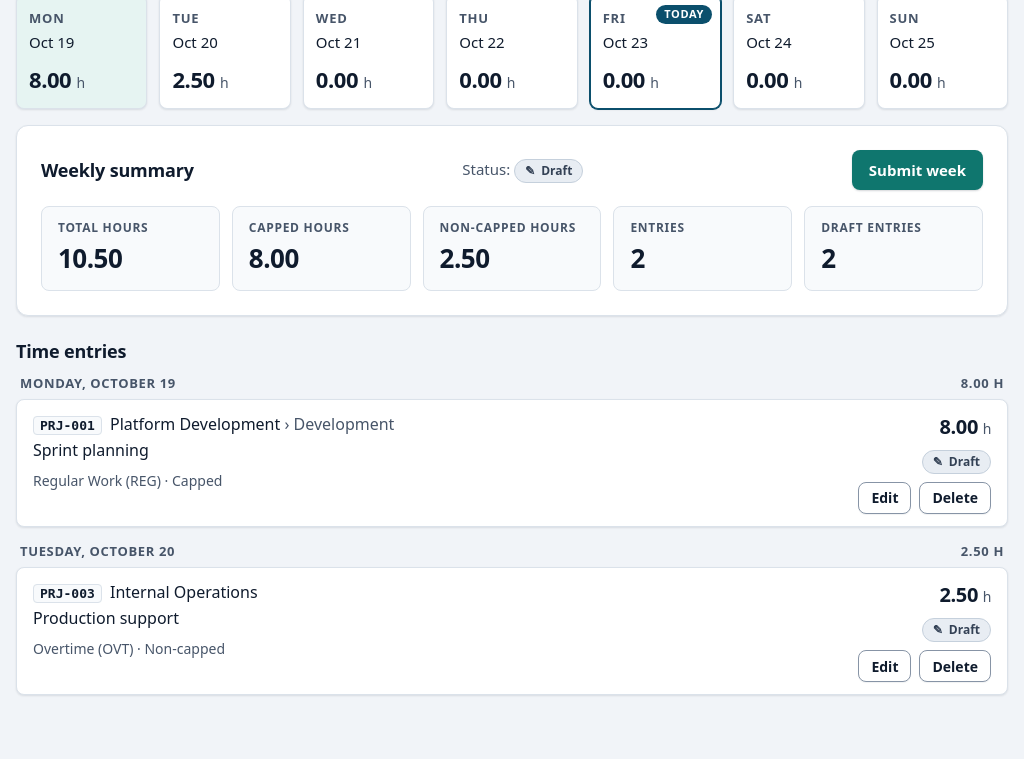
Test: Delete time entry › requires confirmation, then removes the entry and updates totals
(page scrolled)
Expected: the text with test id "total-hours" reads "10.50", [58,240,122,276]
Click the button with aria-label "Delete entry: PRJ-003 on Tuesday, October 20": (955, 666) [920,650,991,682]
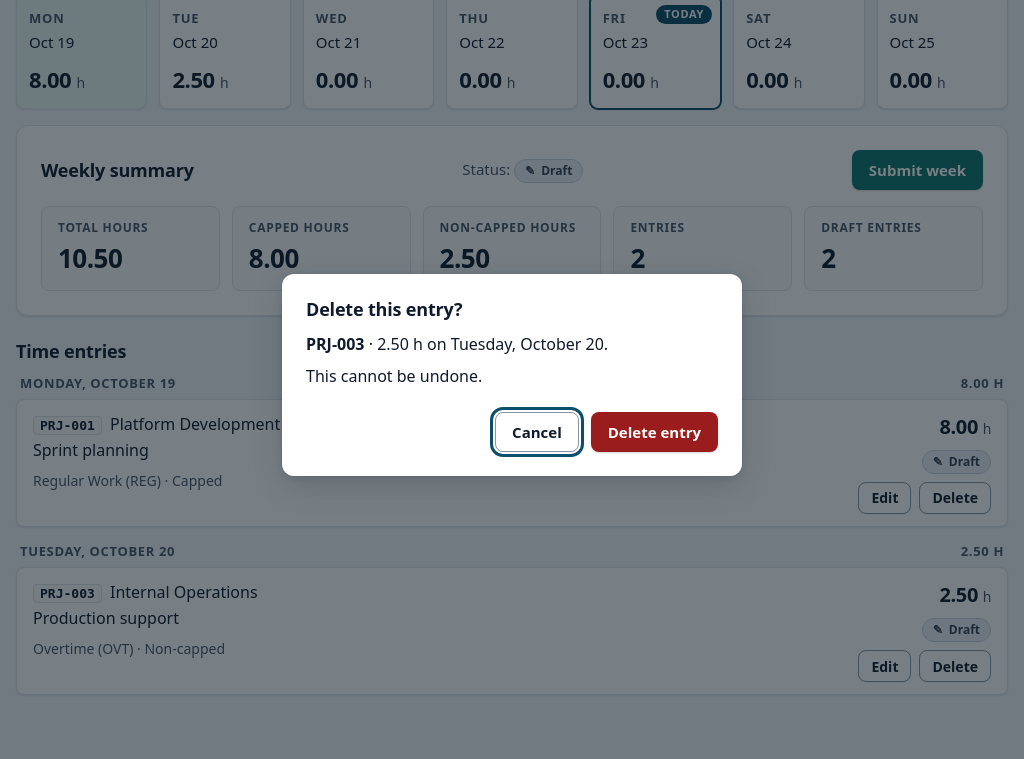
Now the dialog "Delete this entry?" shows "PRJ-003", box [306,333,364,355]
Now the dialog "Delete this entry?" shows "2.50 h", box [282,274,742,476]
Click the button "Delete entry": (654, 432) [591,412,718,452]
(page scrolled)
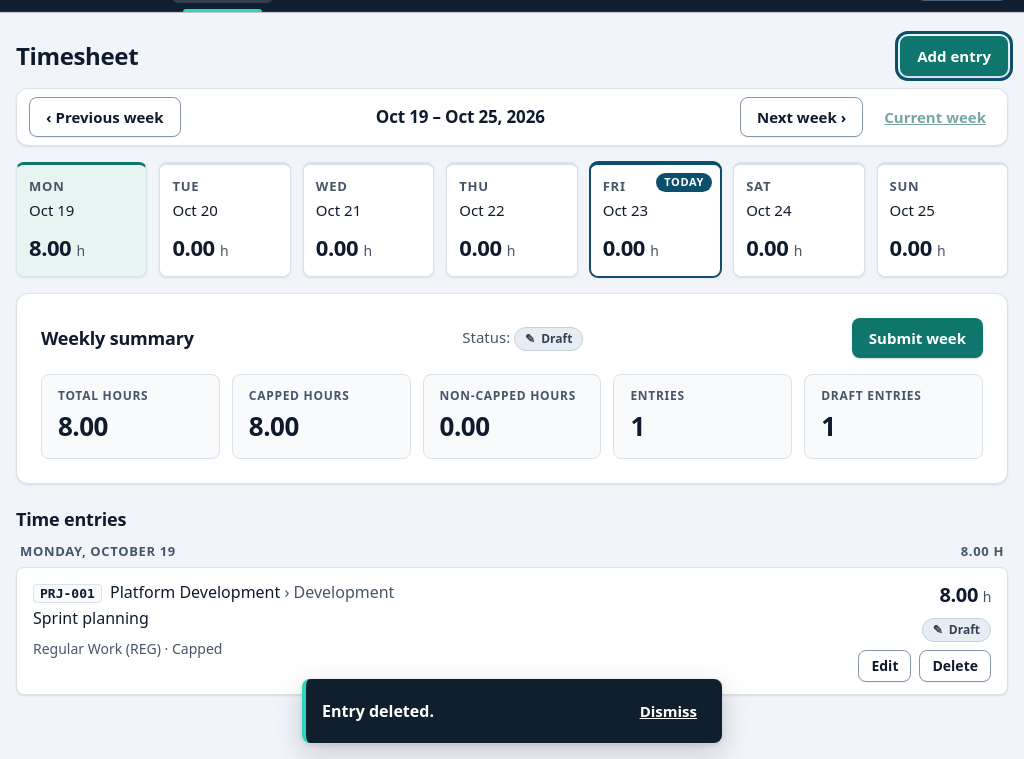
Now the dialog is gone
Now the text "Entry deleted." is shown, box [322,699,434,723]
Now the text with test id "total-hours" reads "8.00", box [58,408,108,444]
